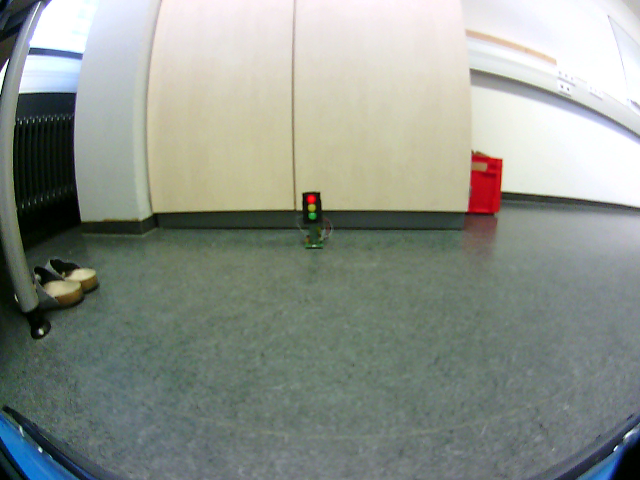red trafficlight: (304, 193, 320, 221)
